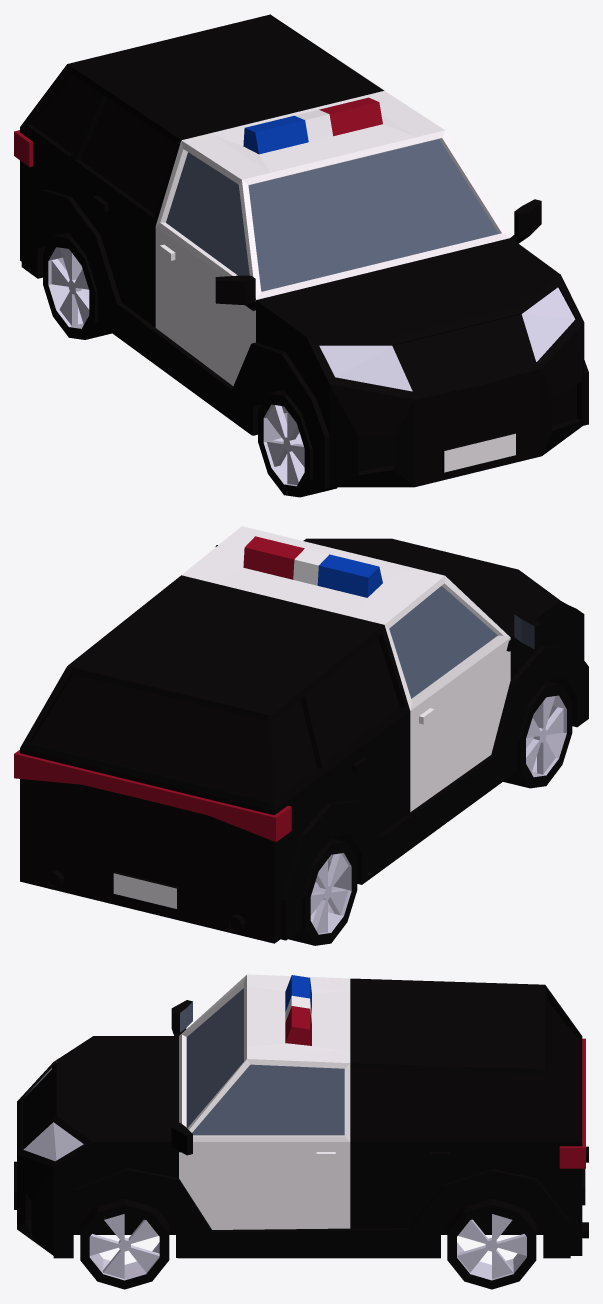
Rendered from mod-viatura-suv.gltf.
3 renders of one model, top to bottom at view 1: azimuth 30°, elevation 25°; view 2: azimuth 150°, elevation 25°; view 3: azimuth 270°, elevation 25°, orthographic. The views are drawn at different scales.
Visible parts, largest first — view 1: Police SUV, Police SUV wheel front left; view 2: Police SUV, Police SUV wheel front left; view 3: Police SUV, Police SUV wheel front left.
Part boxes in pixels (x1,y1,x2,y2): Police SUV: (14,14,588,488); Police SUV wheel front left: (43,232,337,497); Police SUV: (14,526,588,943); Police SUV wheel front left: (288,680,572,945); Police SUV: (14,974,588,1258); Police SUV wheel front left: (80,1199,536,1289).
Size of the model in its own units: 2.48 by 1.99 by 4.43.
